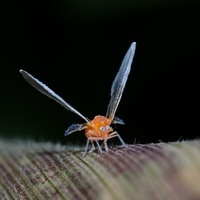insect: (19, 42, 135, 155)
